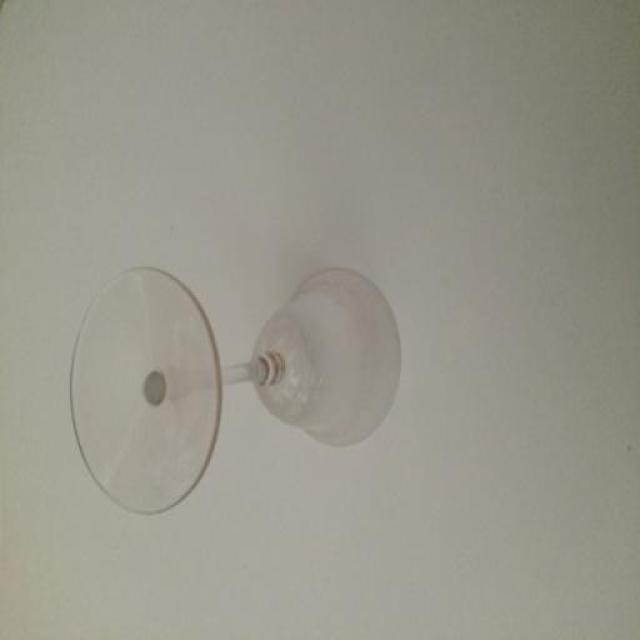glass: (69, 265, 401, 515)
